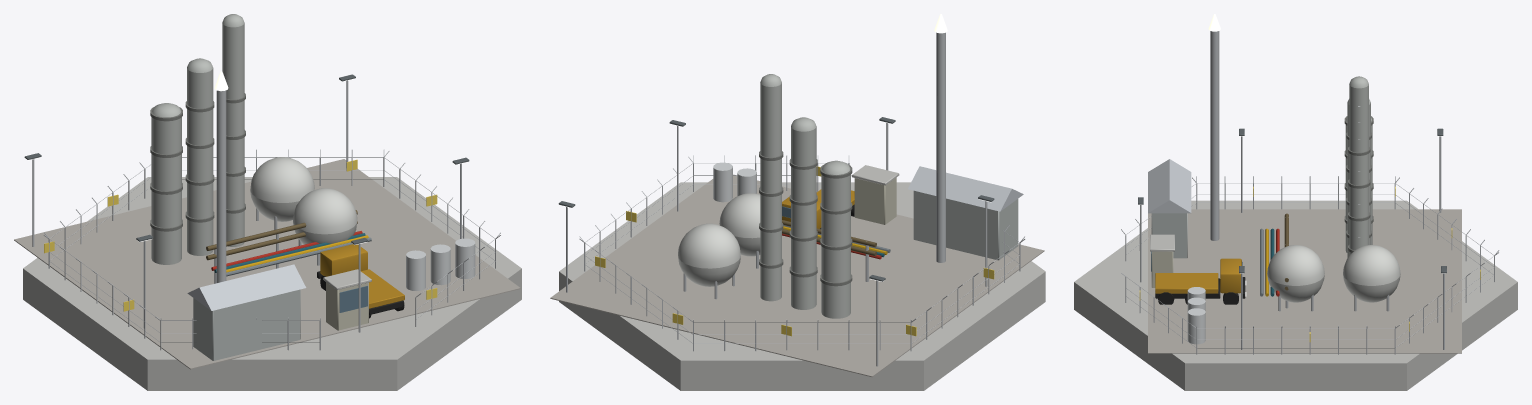
The model's file is oilRefinery.glb.
3 renders of one model, left to right at view 1: azimuth 30°, elevation 25°; view 2: azimuth 150°, elevation 25°; view 3: azimuth 270°, elevation 25°, orthographic. The views are drawn at different scales.
Visible parts, largest first — view 1: gravel, paint, wall_concrete, cladding, metal, hazard, glass; view 2: gravel, wall_concrete, paint, cladding, metal, hazard; view 3: gravel, wall_concrete, paint, metal, cladding, dark.
Part boxes in pixels (x1,y1,x2,y2): gravel: (14, 159, 520, 369); paint: (150, 14, 475, 308); wall_concrete: (23, 177, 521, 390); cladding: (187, 264, 368, 360); metal: (32, 80, 500, 350); hazard: (44, 159, 437, 311); glass: (339, 286, 367, 312); gravel: (550, 174, 1044, 377); wall_concrete: (559, 165, 1045, 390); paint: (678, 74, 890, 318); cladding: (854, 166, 1023, 260); metal: (566, 32, 1025, 366); hazard: (595, 166, 994, 336); gravel: (1148, 209, 1461, 353); wall_concrete: (1074, 200, 1517, 390); paint: (1155, 76, 1400, 344); metal: (1121, 31, 1499, 354); cladding: (1148, 159, 1191, 287); dark: (1155, 277, 1245, 304).
Size of the model in its own units: 21.3 by 15.5 by 24.6.
